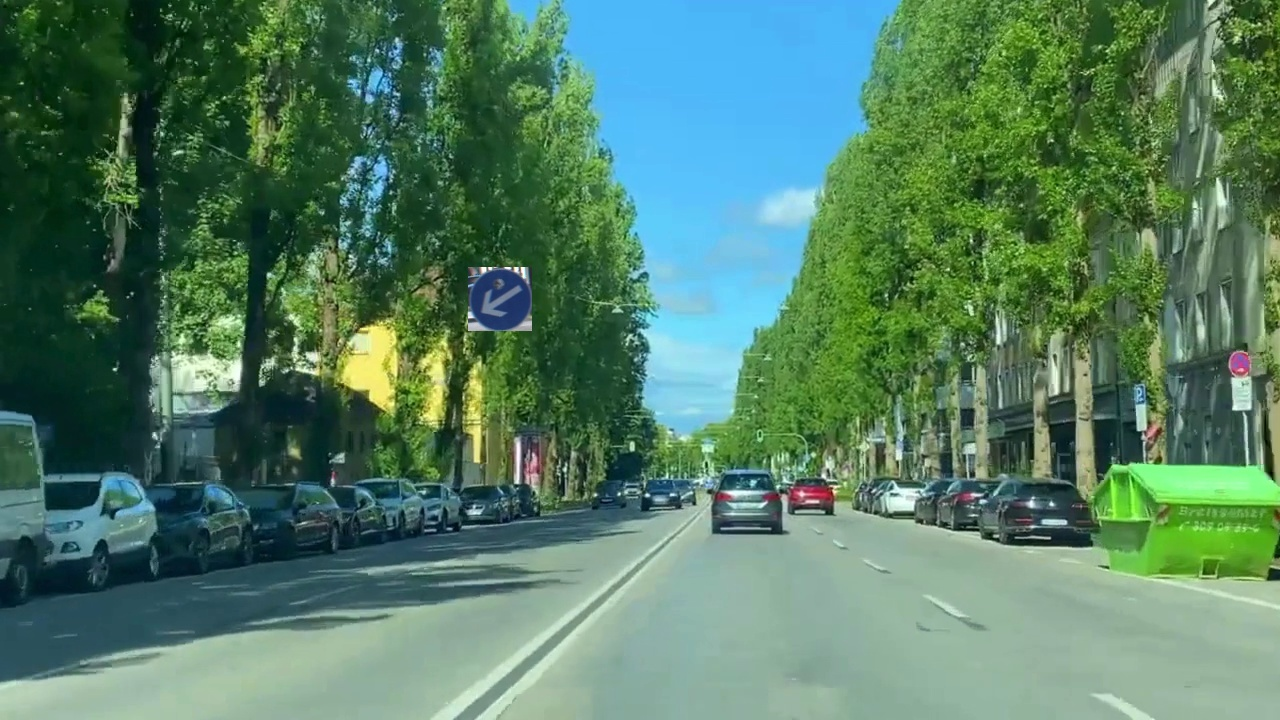Keep left: (468, 267, 532, 331)
